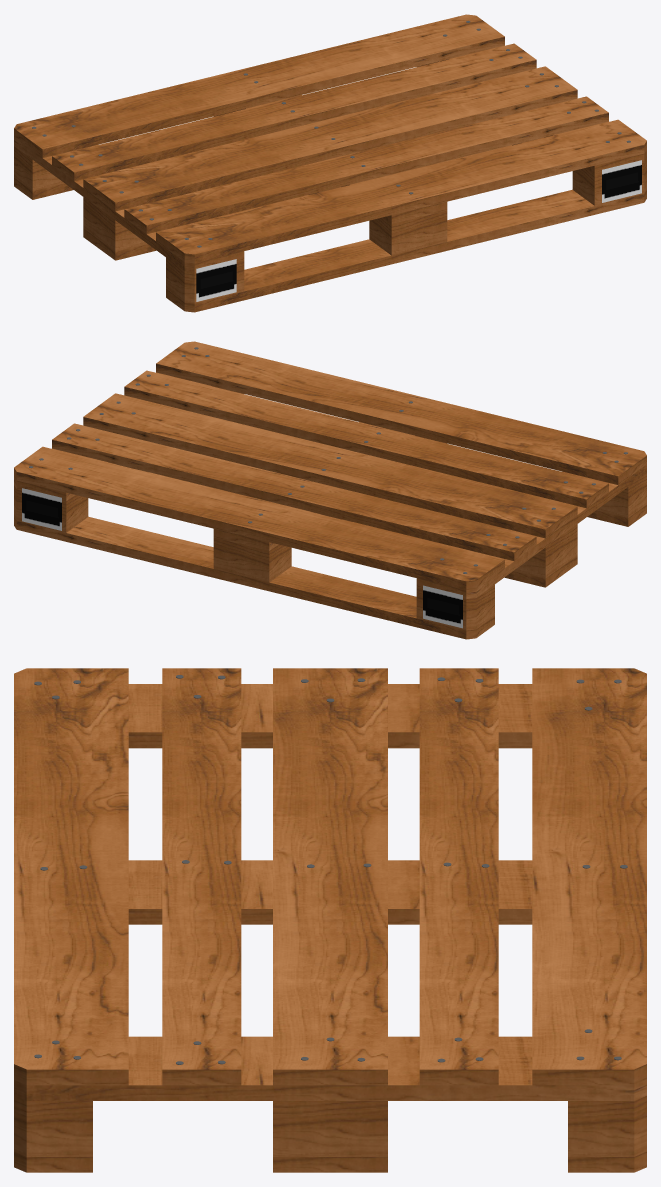
The model's file is pallet3.fbx.
The picture shows the model from 3 angles, top to bottom: view 1: azimuth 30°, elevation 25°; view 2: azimuth 150°, elevation 25°; view 3: azimuth 270°, elevation 25°; orthographic projection. The views are drawn at different scales.
Visible parts, largest first — view 1: Pallet.Plank.Top.001, Pallet.Plank.Top.005, Pallet.Plank.Top.003, Pallet.Plank.Top.004, Pallet.Plank.Top.002, Pallet.Plank.Bottom.003, Pallet.Brick.006, Pallet.Plank.Middle.003, Pallet.Brick.008, EPAL.003, EPAL.002, Pallet.Brick.009 (+7 smaller); view 2: Pallet.Plank.Top.001, Pallet.Plank.Top.005, Pallet.Plank.Top.003, Pallet.Plank.Top.002, Pallet.Plank.Top.004, Pallet.Plank.Bottom.001, Pallet.Brick.004, Pallet.Plank.Middle.003, Pallet.Brick.008, EPAL, EPAL.001, Pallet.Brock.007 (+7 smaller); view 3: Pallet.Plank.Top.003, Pallet.Plank.Top.001, Pallet.Plank.Top.005, Pallet.Plank.Top.004, Pallet.Plank.Top.002, Pallet.Plank.Middle.001, Pallet.Plank.Middle.002, Pallet.Plank.Middle.003, Pallet.Brick.002, Pallet.Brick.001, Pallet.Brick.003, Pallet.Plank.Bottom.002 (+3 smaller).
Boxes of the visible parts, bbox=[...] form: Pallet.Plank.Top.001: bbox=[14, 14, 504, 157]; Pallet.Plank.Top.005: bbox=[156, 119, 646, 263]; Pallet.Plank.Top.003: bbox=[83, 66, 577, 211]; Pallet.Plank.Top.004: bbox=[124, 96, 608, 234]; Pallet.Plank.Top.002: bbox=[52, 43, 536, 181]; Pallet.Plank.Bottom.003: bbox=[166, 189, 646, 312]; Pallet.Brick.006: bbox=[369, 210, 447, 255]; Pallet.Plank.Middle.003: bbox=[14, 137, 244, 271]; Pallet.Brick.008: bbox=[83, 197, 146, 251]; EPAL.003: bbox=[196, 259, 236, 301]; EPAL.002: bbox=[602, 160, 641, 202]; Pallet.Brick.009: bbox=[166, 257, 244, 303]; Pallet.Plank.Top.001: bbox=[14, 446, 504, 590]; Pallet.Plank.Top.005: bbox=[156, 341, 646, 484]; Pallet.Plank.Top.003: bbox=[83, 393, 577, 538]; Pallet.Plank.Top.002: bbox=[52, 423, 536, 561]; Pallet.Plank.Top.004: bbox=[124, 370, 608, 508]; Pallet.Plank.Bottom.001: bbox=[14, 516, 494, 639]; Pallet.Brick.004: bbox=[213, 537, 291, 582]; Pallet.Plank.Middle.003: bbox=[416, 464, 646, 598]; Pallet.Brick.008: bbox=[514, 524, 577, 578]; EPAL: bbox=[22, 488, 61, 530]; EPAL.001: bbox=[423, 585, 462, 628]; Pallet.Brock.007: bbox=[416, 584, 494, 630]; Pallet.Plank.Top.003: bbox=[273, 668, 387, 1085]; Pallet.Plank.Top.001: bbox=[532, 668, 646, 1085]; Pallet.Plank.Top.005: bbox=[14, 668, 128, 1085]; Pallet.Plank.Top.004: bbox=[162, 668, 241, 1085]; Pallet.Plank.Top.002: bbox=[419, 668, 498, 1085]; Pallet.Plank.Middle.001: bbox=[14, 1036, 646, 1100]; Pallet.Plank.Middle.002: bbox=[128, 860, 532, 924]; Pallet.Plank.Middle.003: bbox=[128, 684, 532, 748]; Pallet.Brick.002: bbox=[273, 1101, 387, 1156]; Pallet.Brick.001: bbox=[568, 1096, 646, 1156]; Pallet.Brick.003: bbox=[14, 1096, 92, 1156]; Pallet.Plank.Bottom.002: bbox=[273, 1157, 387, 1172].
Bounding box in the file's own units: 120 × 14.47 × 80.
